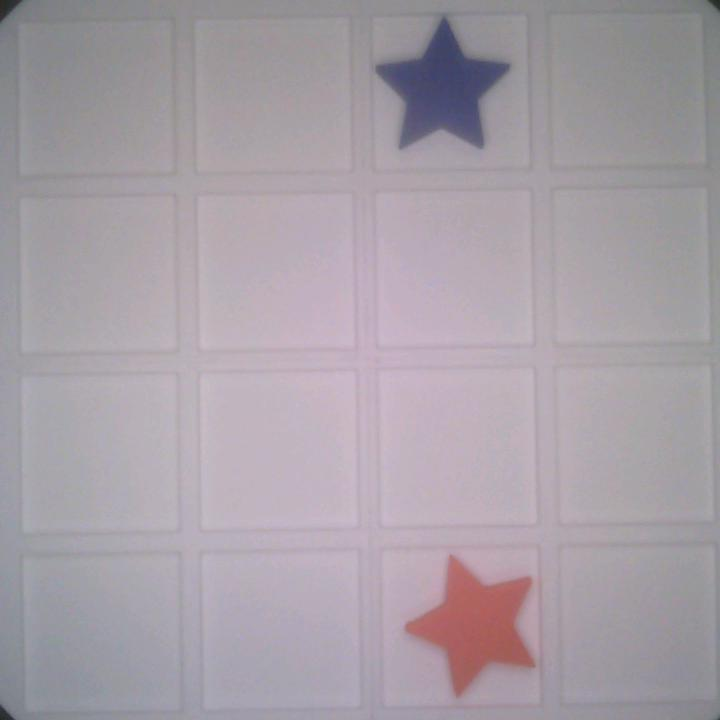Blue star: (374, 16, 510, 157)
Orange star: (405, 555, 530, 699)
